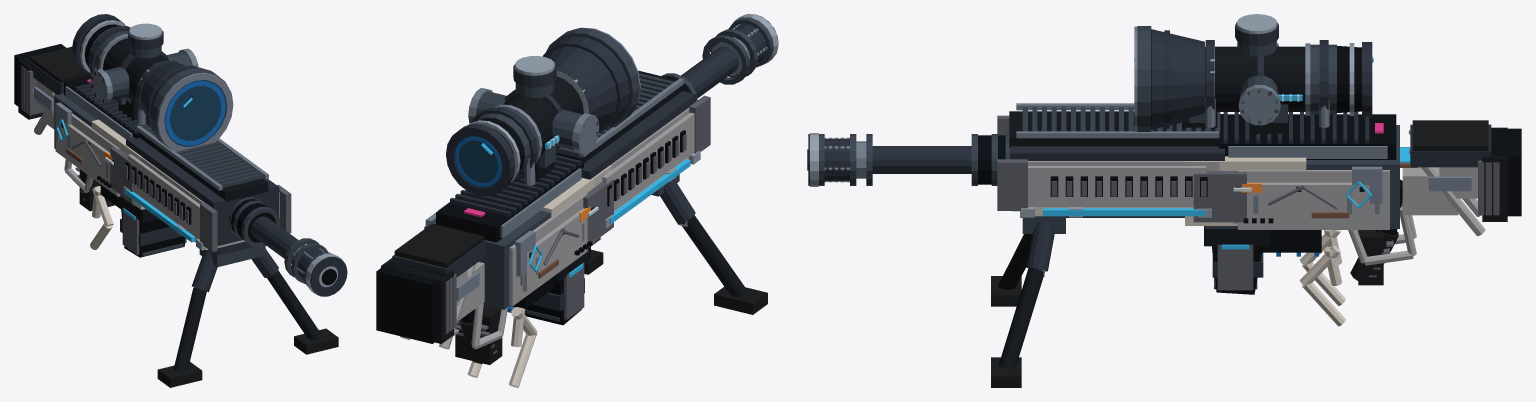
The model's file is gun_sniper.obj.
3 views of the same model, side by side, from view 1: azimuth 30°, elevation 25°; view 2: azimuth 150°, elevation 25°; view 3: azimuth 270°, elevation 25° (orthographic). The views are drawn at different scales.
Visible parts, largest first — view 1: 08_sight_optic_and_objective_lens, 06_handguard_and_heatshield, 03_pale_angular_main_chassis, 10_folding_bipod_game_prop, 07_long_precision_barrel_and_muzzle, 01_skeletal_adjustable_stock, 05_magazine_and_magwell, 09_scope_brackets_and_diagnostics, 02_angled_grip_and_guard, 11_decorative_receiver_markings_and_panels; view 2: 08_sight_optic_and_objective_lens, 03_pale_angular_main_chassis, 01_skeletal_adjustable_stock, 06_handguard_and_heatshield, 07_long_precision_barrel_and_muzzle, 10_folding_bipod_game_prop, 02_angled_grip_and_guard, 05_magazine_and_magwell, 09_scope_brackets_and_diagnostics, 11_decorative_receiver_markings_and_panels, 04_floating_energy_feed; view 3: 06_handguard_and_heatshield, 03_pale_angular_main_chassis, 08_sight_optic_and_objective_lens, 01_skeletal_adjustable_stock, 07_long_precision_barrel_and_muzzle, 10_folding_bipod_game_prop, 05_magazine_and_magwell, 02_angled_grip_and_guard, 09_scope_brackets_and_diagnostics, 04_floating_energy_feed, 11_decorative_receiver_markings_and_panels.
Part boxes in pixels (x1=…): 08_sight_optic_and_objective_lens: x1=72, y1=14, x2=233, y2=151; 06_handguard_and_heatshield: x1=123, y1=124, x2=291, y2=255; 03_pale_angular_main_chassis: x1=54, y1=75, x2=147, y2=209; 10_folding_bipod_game_prop: x1=157, y1=246, x2=338, y2=387; 07_long_precision_barrel_and_muzzle: x1=228, y1=197, x2=347, y2=296; 01_skeletal_adjustable_stock: x1=14, y1=44, x2=113, y2=249; 05_magazine_and_magwell: x1=116, y1=196, x2=186, y2=257; 09_scope_brackets_and_diagnostics: x1=88, y1=26, x2=184, y2=124; 02_angled_grip_and_guard: x1=64, y1=159, x2=114, y2=211; 11_decorative_receiver_markings_and_panels: x1=61, y1=79, x2=114, y2=187; 08_sight_optic_and_objective_lens: x1=446, y1=27, x2=640, y2=196; 03_pale_angular_main_chassis: x1=424, y1=155, x2=613, y2=309; 01_skeletal_adjustable_stock: x1=376, y1=223, x2=537, y2=387; 06_handguard_and_heatshield: x1=556, y1=70, x2=710, y2=228; 07_long_precision_barrel_and_muzzle: x1=661, y1=14, x2=778, y2=100; 10_folding_bipod_game_prop: x1=584, y1=174, x2=767, y2=314; 02_angled_grip_and_guard: x1=453, y1=302, x2=507, y2=364; 05_magazine_and_magwell: x1=510, y1=247, x2=590, y2=325; 09_scope_brackets_and_diagnostics: x1=469, y1=66, x2=594, y2=185; 11_decorative_receiver_markings_and_panels: x1=463, y1=206, x2=598, y2=278; 04_floating_energy_feed: x1=507, y1=278, x2=555, y2=312; 06_handguard_and_heatshield: x1=997, y1=103, x2=1224, y2=217; 03_pale_angular_main_chassis: x1=1185, y1=111, x2=1399, y2=229; 08_sight_optic_and_objective_lens: x1=1134, y1=14, x2=1373, y2=136; 01_skeletal_adjustable_stock: x1=1299, y1=120, x2=1521, y2=326; 07_long_precision_barrel_and_muzzle: x1=807, y1=133, x2=1009, y2=186; 10_folding_bipod_game_prop: x1=991, y1=216, x2=1065, y2=387; 05_magazine_and_magwell: x1=1204, y1=226, x2=1269, y2=294; 02_angled_grip_and_guard: x1=1348, y1=179, x2=1416, y2=285; 09_scope_brackets_and_diagnostics: x1=1205, y1=40, x2=1329, y2=127; 04_floating_energy_feed: x1=1261, y1=230, x2=1321, y2=256; 11_decorative_receiver_markings_and_panels: x1=1233, y1=123, x2=1417, y2=223.
Bounding box in the file's own units: 0.94 × 1.37 × 2.82.
